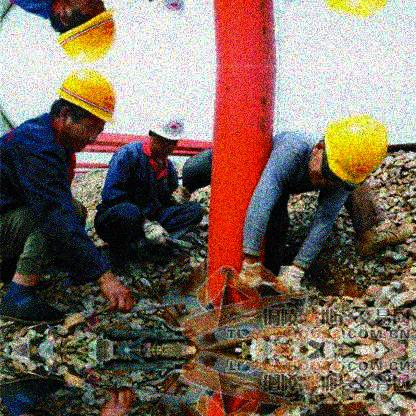helmet: (307, 116, 387, 190), (55, 71, 115, 150), (50, 1, 115, 60), (147, 110, 183, 155)
